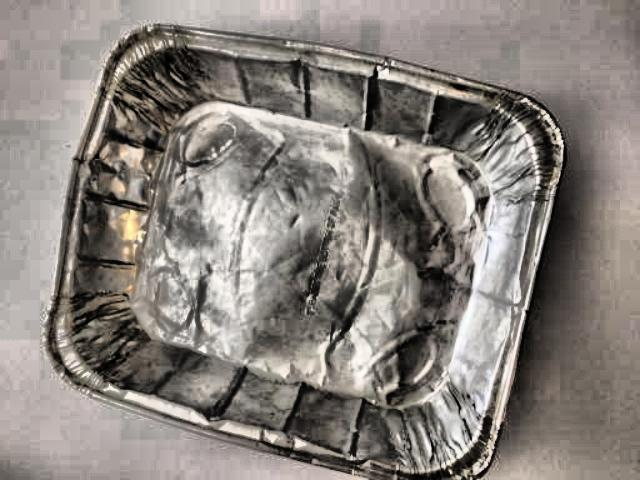Almennt: (26, 11, 581, 480)
